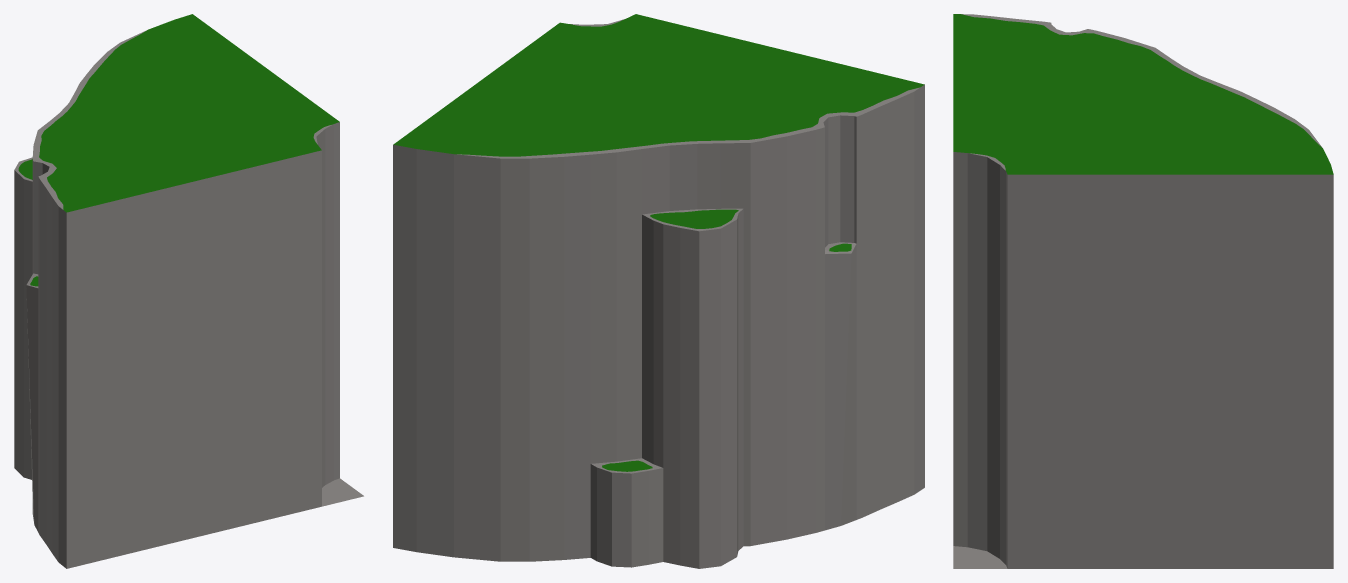
File: MountainCornerPath.fbx
The picture shows the model from 3 angles, left to right: view 1: azimuth 30°, elevation 25°; view 2: azimuth 150°, elevation 25°; view 3: azimuth 270°, elevation 25°; orthographic projection. The views are drawn at different scales.
Parts seen in each view (by area): view 1: Plane.016; view 2: Plane.016; view 3: Plane.016.
Part boxes in pixels (x1,y1,x2,y2): Plane.016: (14, 14, 363, 568); Plane.016: (393, 14, 924, 568); Plane.016: (953, 14, 1333, 568).
Bounding box in the file's own units: 87.5 × 100 × 87.5.
